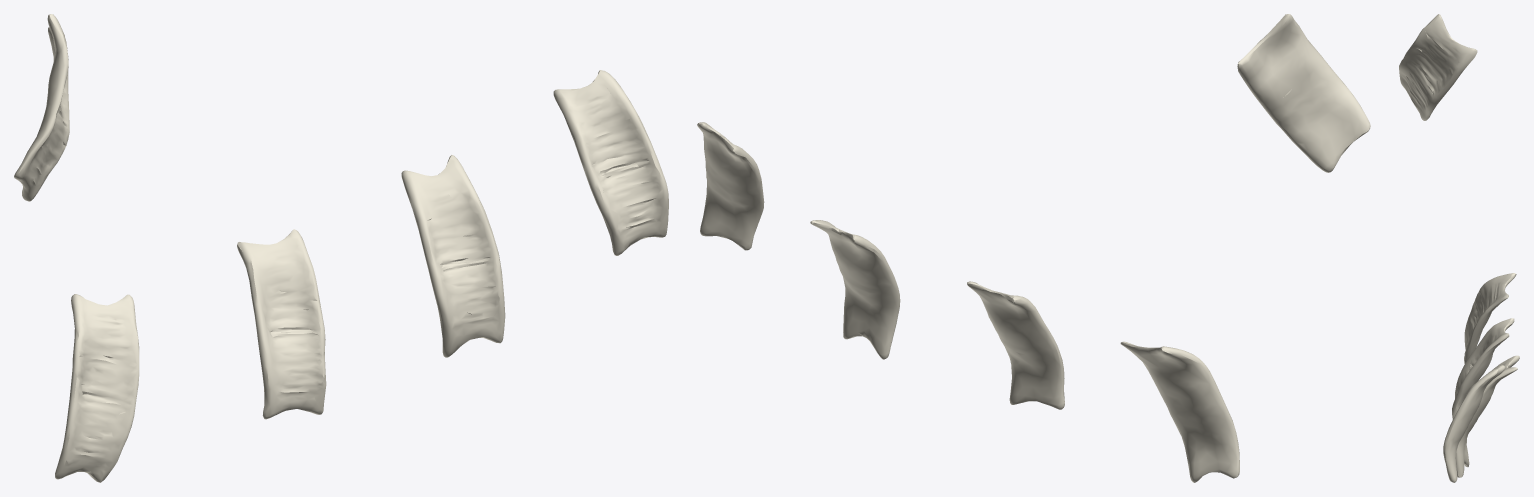
File: fma42772-r_mm1500m.glb
3 renders of one model, left to right at view 1: azimuth 30°, elevation 25°; view 2: azimuth 150°, elevation 25°; view 3: azimuth 270°, elevation 25°, orthographic. The views are drawn at different scales.
Parts seen in each view (by area): view 1: FMA42772-R_MM1500M; view 2: FMA42772-R_MM1500M; view 3: FMA42772-R_MM1500M.
Boxes of the visible parts, bbox=[...] form: FMA42772-R_MM1500M: bbox=[14, 14, 668, 482]; FMA42772-R_MM1500M: bbox=[697, 14, 1370, 482]; FMA42772-R_MM1500M: bbox=[1399, 14, 1519, 482].
Bounding box in the file's own units: 0.0759 × 0.0533 × 0.0169.
